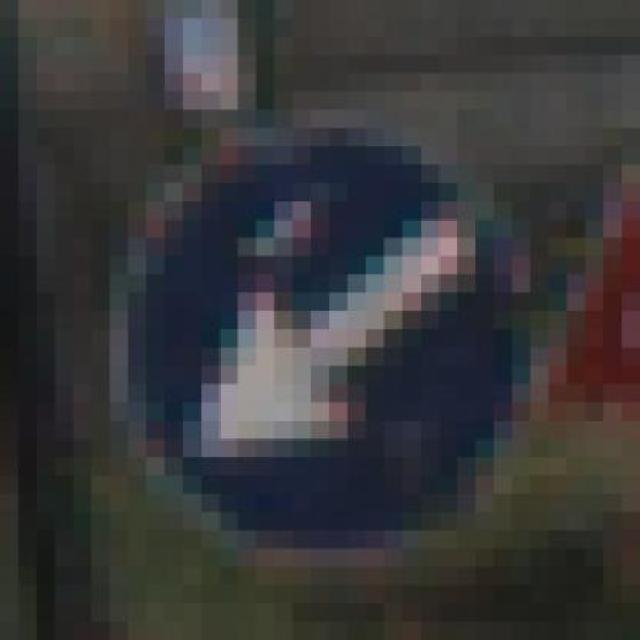Keep-Left: (91, 73, 567, 585)
